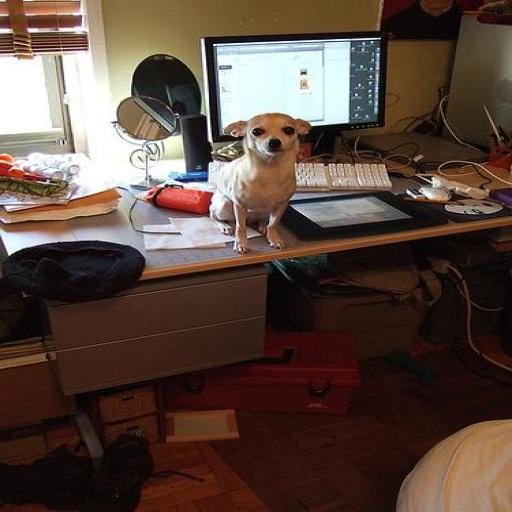dog_face: (220, 110, 322, 166)
